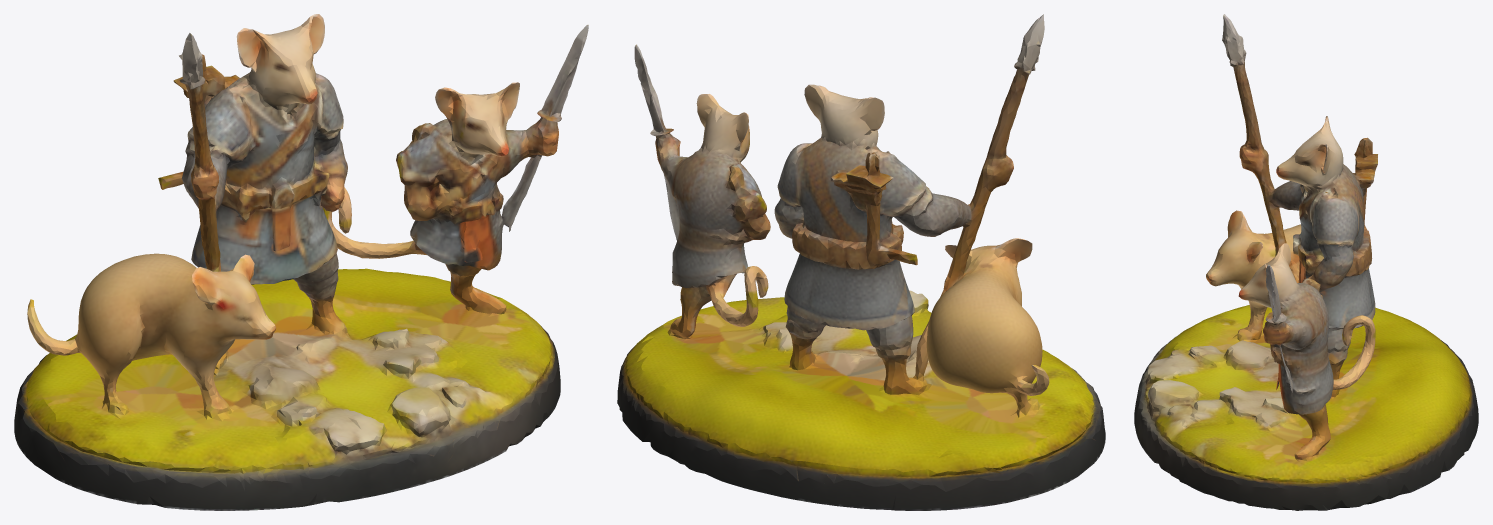
3 views of the same model, side by side, from view 1: azimuth 30°, elevation 25°; view 2: azimuth 150°, elevation 25°; view 3: azimuth 270°, elevation 25° (orthographic). The views are drawn at different scales.
Parts seen in each view (by area): view 1: Reinforcements; view 2: Reinforcements; view 3: Reinforcements.
Part boxes in pixels (bbox=[...]): Reinforcements: bbox=[14, 14, 588, 510]; Reinforcements: bbox=[617, 14, 1105, 510]; Reinforcements: bbox=[1134, 14, 1478, 510].
Bounding box in the file's own units: 1.9 × 1.56 × 1.41.
1 material, 1 textured.
